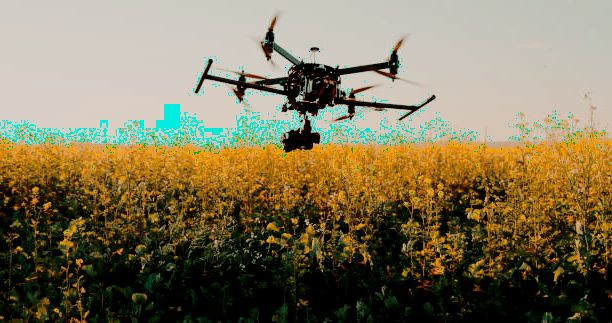Drone: (189, 10, 439, 154)
